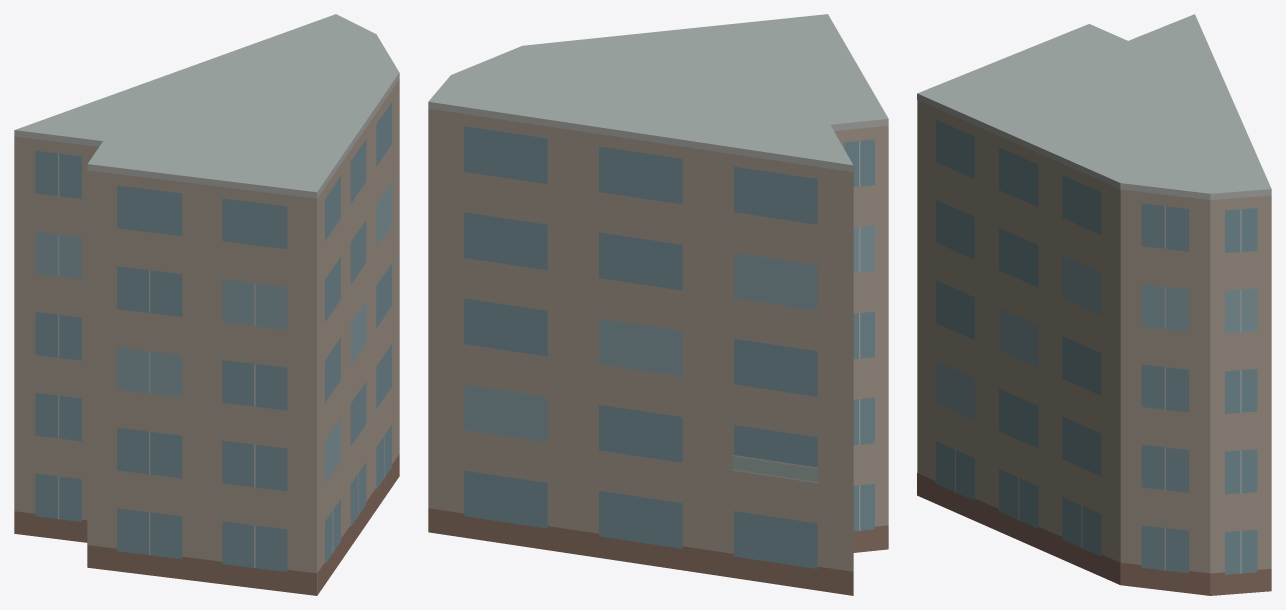
The model's file is survey-upis-32973421.glb.
3 views of the same model, side by side, from view 1: azimuth 30°, elevation 25°; view 2: azimuth 150°, elevation 25°; view 3: azimuth 270°, elevation 25° (orthographic). The views are drawn at different scales.
Visible parts, largest first — view 1: survey-upis-32973421.tmp; view 2: survey-upis-32973421.tmp; view 3: survey-upis-32973421.tmp.
Boxes of the visible parts, bbox=[...] form: survey-upis-32973421.tmp: bbox=[14, 14, 399, 595]; survey-upis-32973421.tmp: bbox=[428, 14, 888, 595]; survey-upis-32973421.tmp: bbox=[917, 14, 1271, 595].
Bounding box in the file's own units: 14.87 × 15.5 × 12.39.
